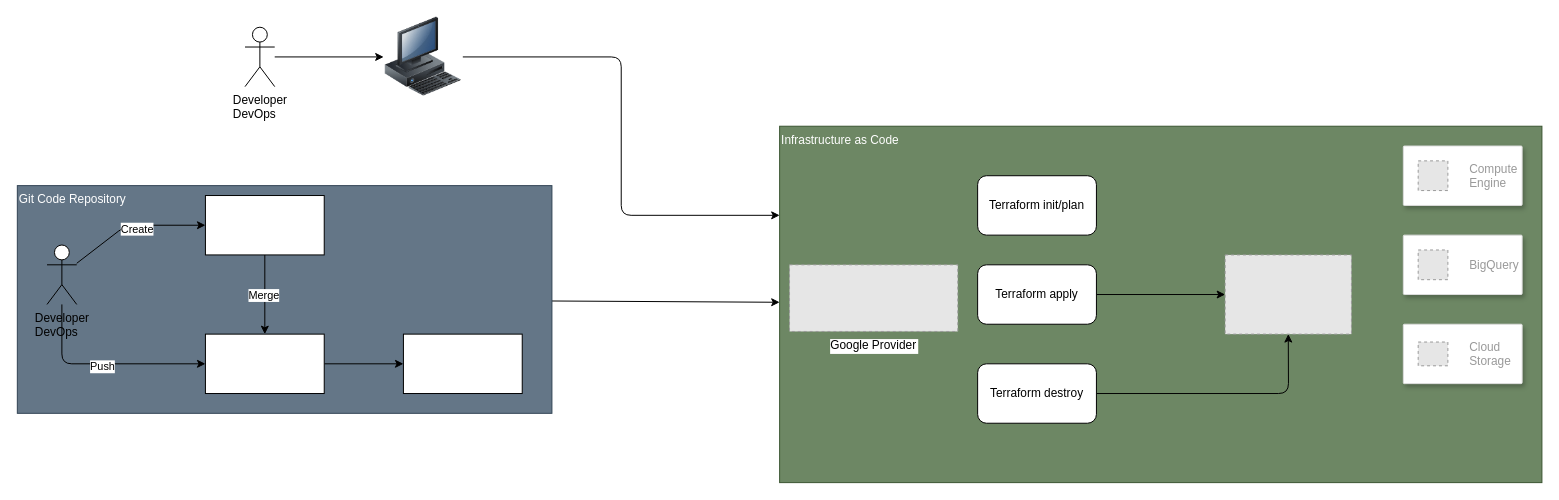
This 1559x500 diagram has some shape labels left out. Grey dashed boxes stand in for pictures. The shapes that lost their labels are listed below. From the top down, each one's centre as x and y in pixels, then its label:
At point (264, 225): "Pull Request".
At point (264, 363): "Main".
At point (462, 363): "GitHub Actions".
